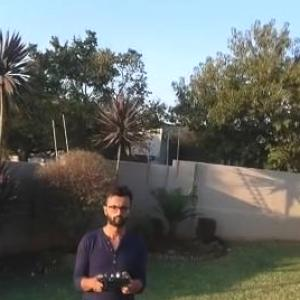follow: (67, 181, 150, 299)
